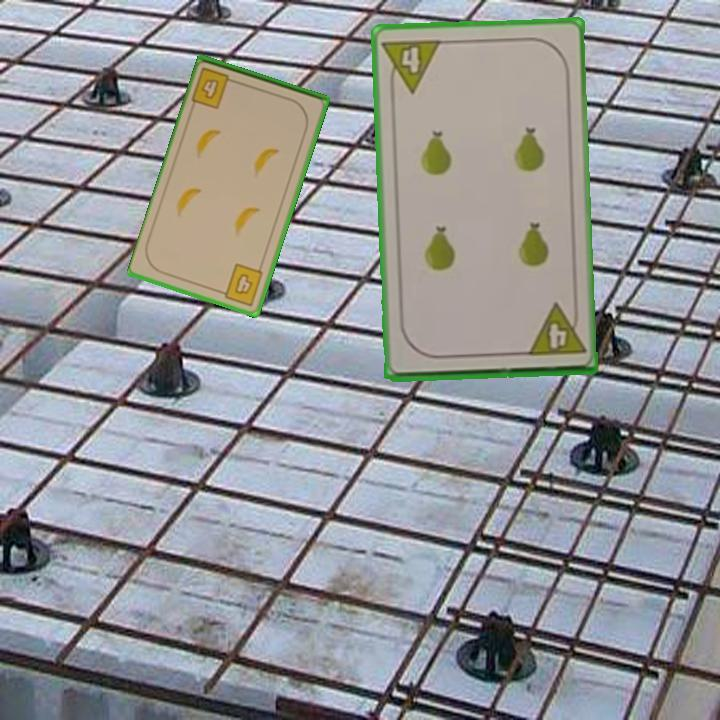4b: (188, 64, 241, 112), (215, 260, 266, 309)
4p: (379, 35, 444, 96), (523, 300, 588, 359)
